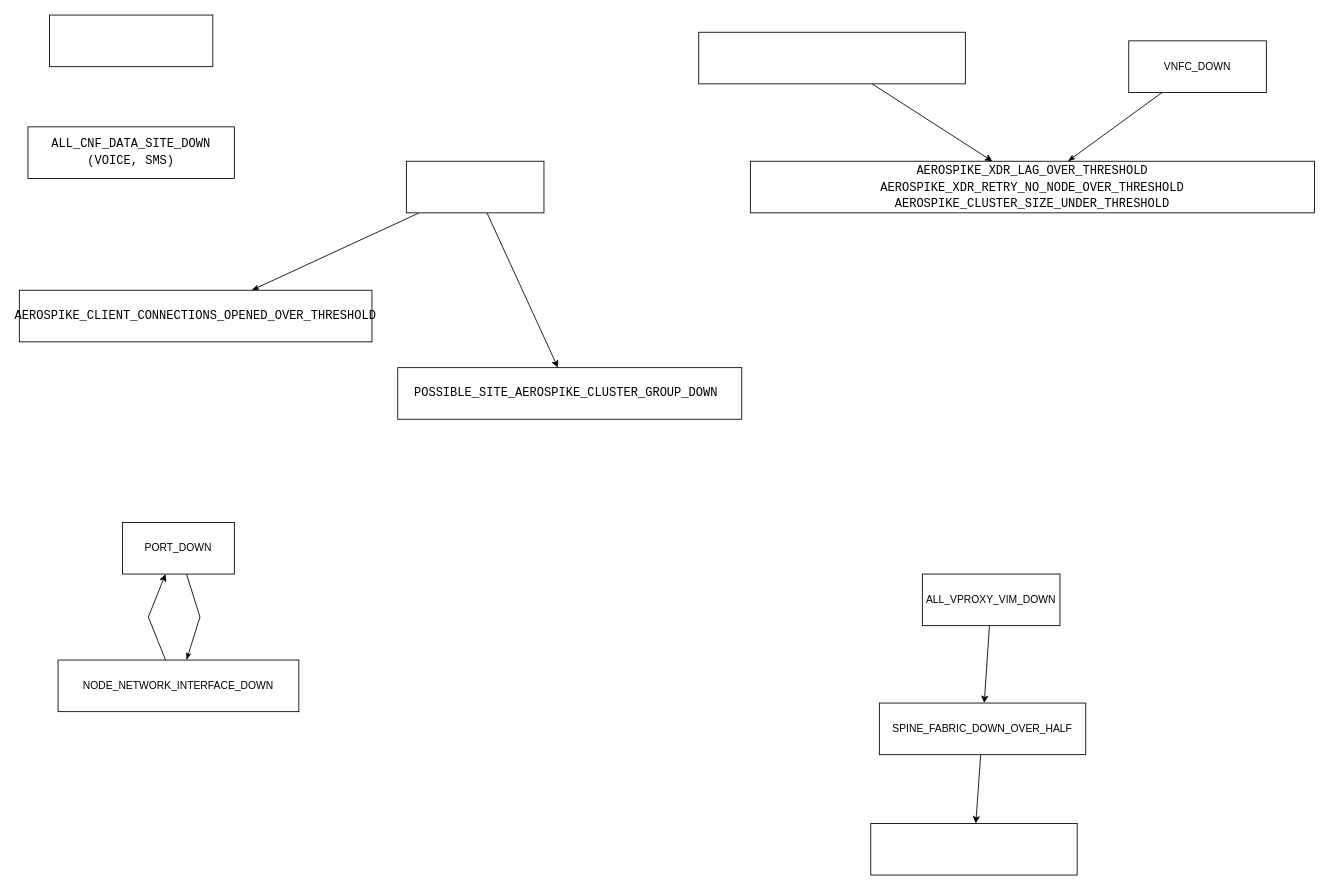
This 1330x890 diagram has some shape labels left out. Here are the shapes that lost their labels. From the top down, the centre of each, then its label:
(x=131, y=40): CNF_DATA_NEED_ISOLATE (VOICE, SMS)
(x=831, y=57): AEROSPIKE_XDR_NODES_UNDER_THRESHOLD
(x=474, y=186): AEROSPIKE_UNHEALTHY
(x=973, y=849): BGW_FABRIC_DOWN_OVER_HALF
